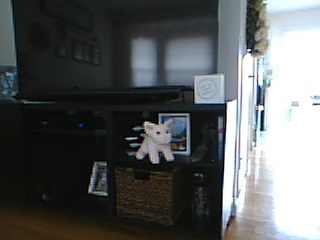piggy: (135, 118, 176, 167)
